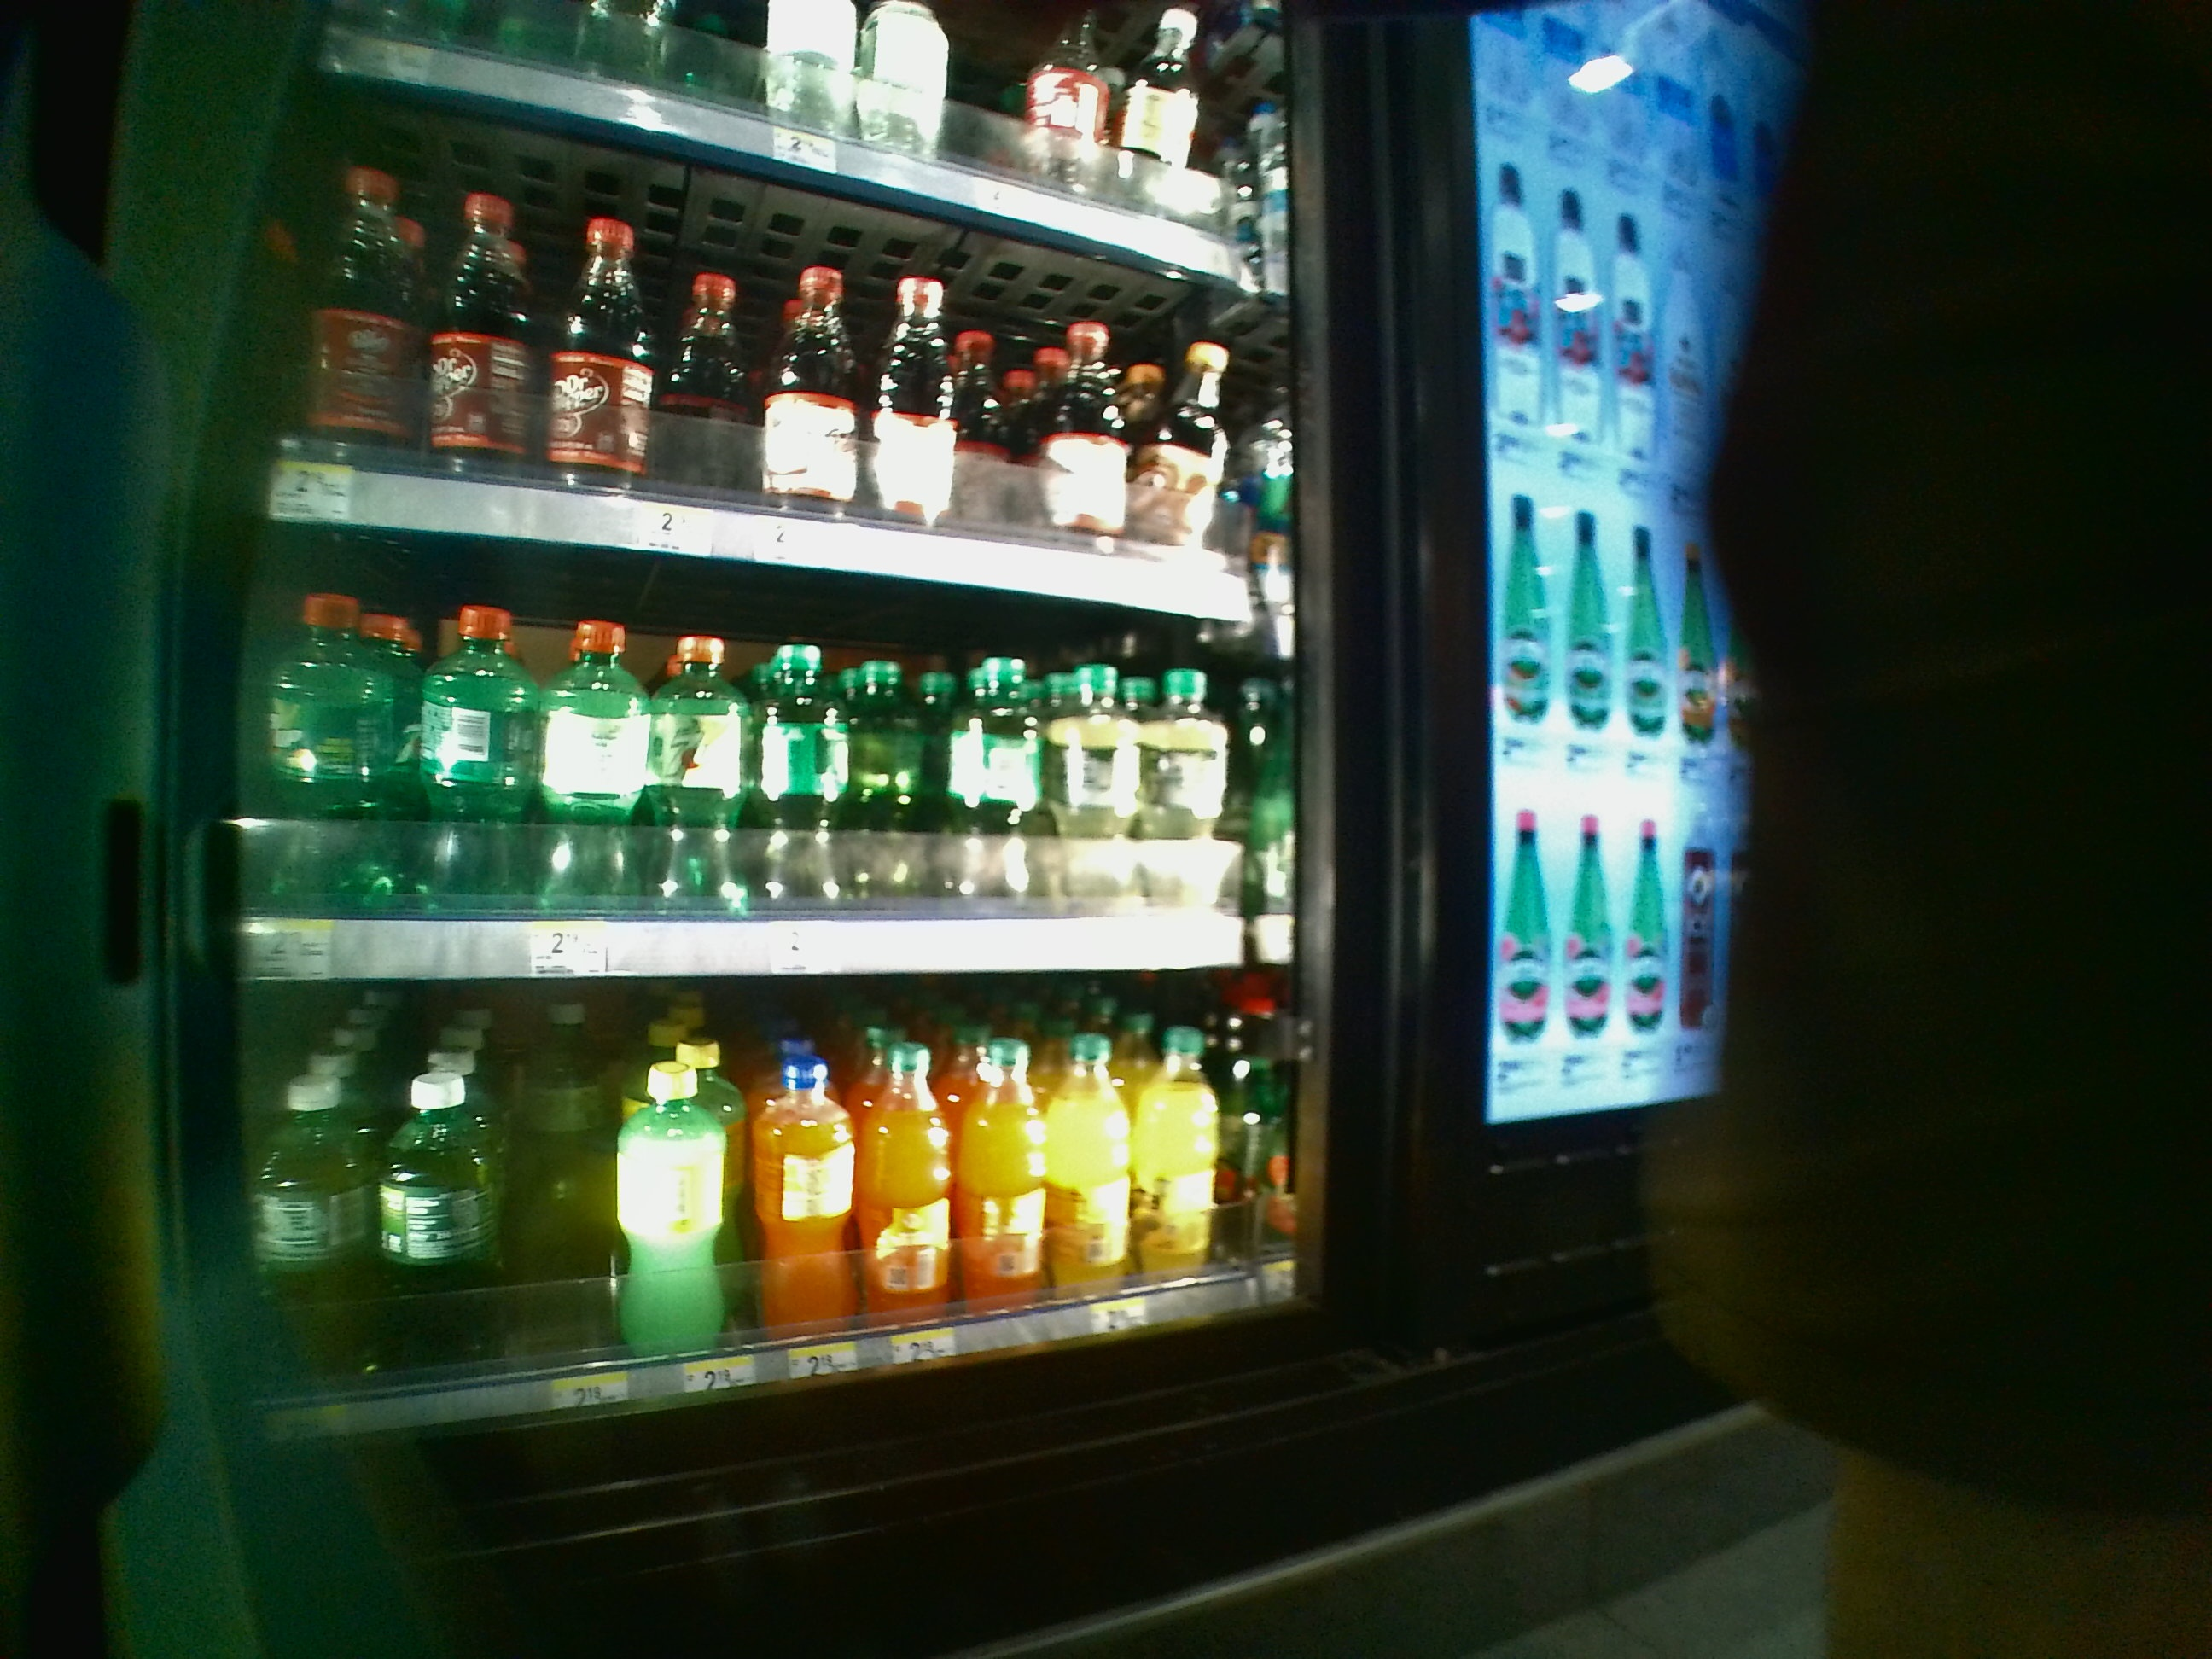shelf: (239, 533, 1298, 978), (239, 993, 1294, 1424)
